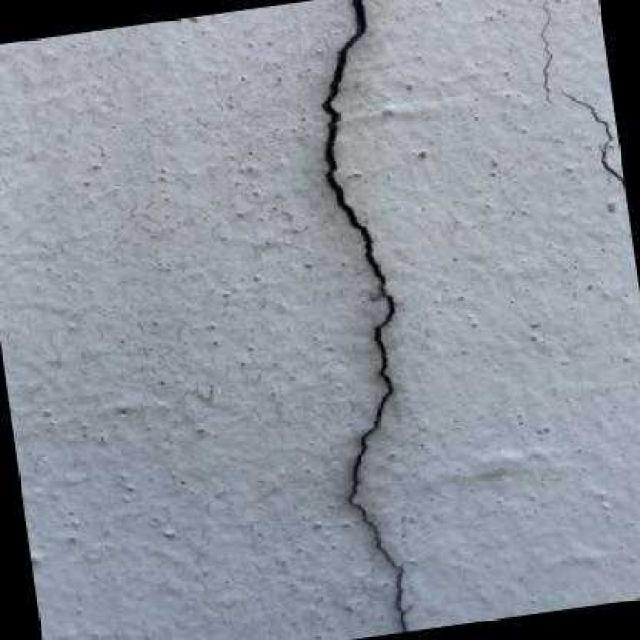D00: (321, 0, 406, 632), (560, 89, 624, 187), (539, 0, 552, 100)
